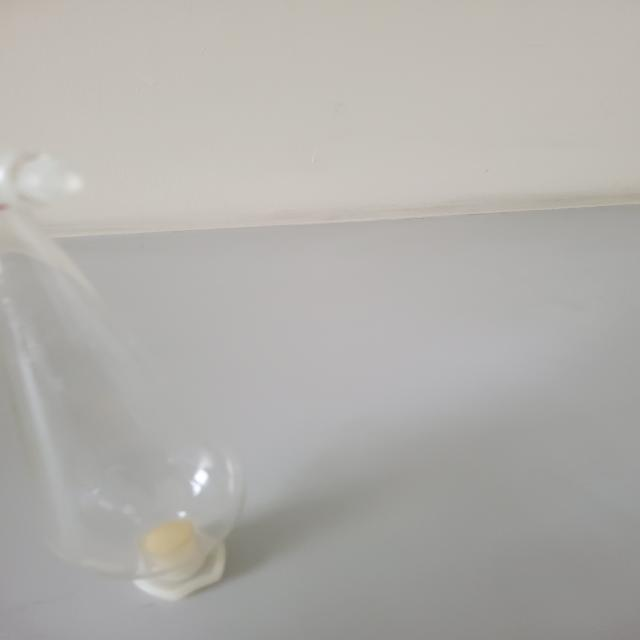Separating_Funnel: (0, 116, 297, 613)
